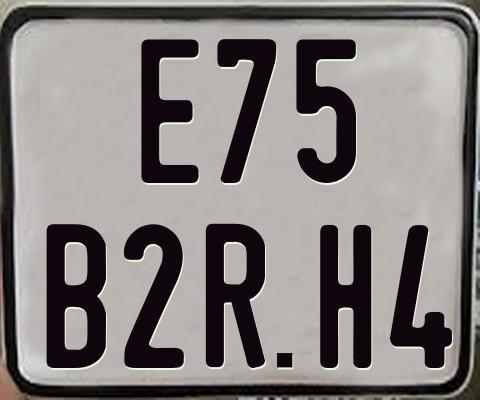2: (122, 223, 186, 373)
4: (389, 225, 455, 368)
5: (294, 37, 356, 185)
7: (214, 36, 277, 186)
B: (44, 224, 110, 373)
E: (138, 36, 201, 182)
H: (317, 223, 369, 370)
R: (203, 223, 267, 369)
